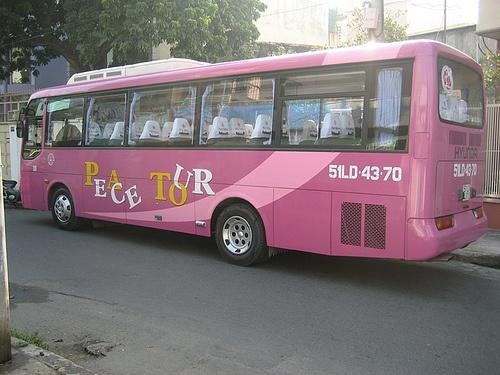bus: (19, 40, 490, 268)
